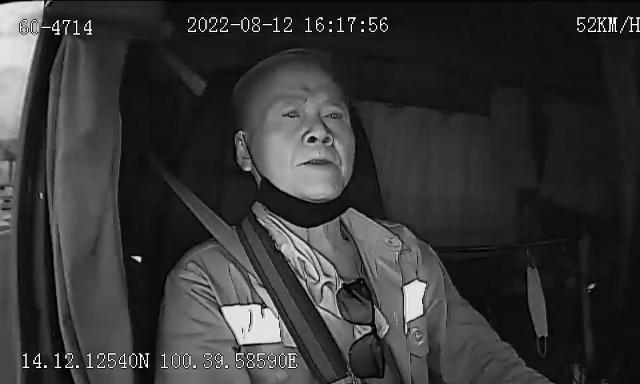SafeDriving: (276, 98, 308, 125), (317, 101, 350, 126)
Seatbelt: (167, 176, 357, 384)
